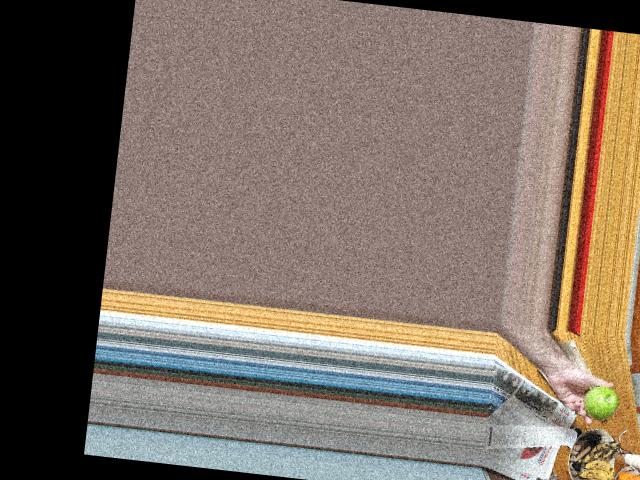apple: (579, 379, 622, 422)
